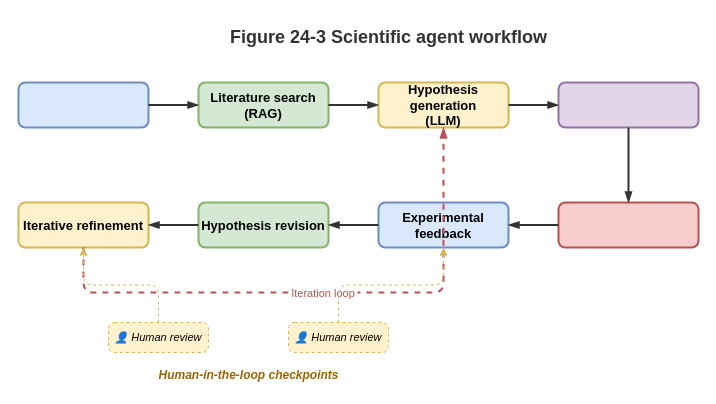
Some shapes in this 716 by 404 pixel diagram are drawn without their labels. The shapes that lost their labels are listed below. From the top down, each one's centre as x and y in pixels, then its label:
At point (83, 104): "Problem definition".
At point (628, 104): "Formal modeling (symbolic reasoning)".
At point (628, 224): "Solver verification (numeric / symbolic)".
